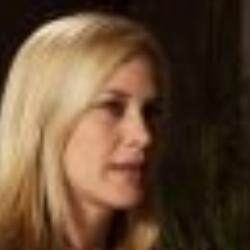face: (2, 5, 178, 235)
